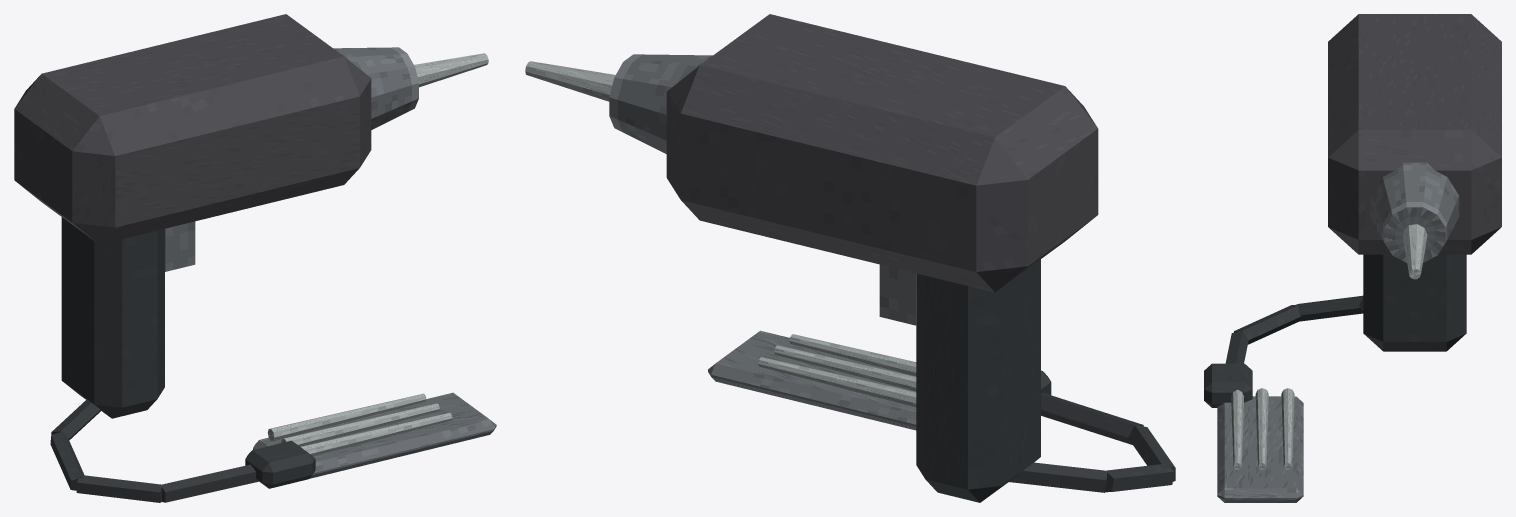
Rendered from corded_powerdrill.glb.
The picture shows the model from 3 angles, left to right: view 1: azimuth 30°, elevation 25°; view 2: azimuth 150°, elevation 25°; view 3: azimuth 270°, elevation 25°; orthographic projection. The views are drawn at different scales.
Parts seen in each view (by area): view 1: block_motor housing, block_angled grip, block_bit holder tray, block_spare drill bit (×3), block_keyless chuck, block_cord plug, block_power cord 3, block_power cord 2, block_trigger, block_tool bit, block_power cord 1, block_power cord 0; view 2: block_motor housing, block_angled grip, block_bit holder tray, block_spare drill bit (×3), block_keyless chuck, block_power cord 3, block_trigger, block_power cord 0, block_tool bit, block_power cord 1, block_power cord 2; view 3: block_motor housing, block_angled grip, block_bit holder tray, block_keyless chuck, block_spare drill bit (×3), block_cord plug, block_power cord 1, block_power cord 2, block_tool bit, block_power cord 3.
Part boxes in pixels (x1,y1,x2,y2): block_motor housing: (14,14,371,244); block_angled grip: (61,217,164,418); block_bit holder tray: (253,392,496,478); block_spare drill bit (×3): (267,393,452,456); block_keyless chuck: (333,47,418,129); block_cord plug: (245,440,315,488); block_power cord 3: (160,464,258,502); block_power cord 2: (76,475,162,502); block_trigger: (164,221,195,271); block_tool bit: (414,53,488,87); block_power cord 1: (50,431,84,490); block_power cord 0: (51,399,100,440); block_motor housing: (666,14,1098,292); block_angled grip: (916,259,1040,502); block_bit holder tray: (708,330,916,430); block_spare drill bit (×3): (758,334,916,407); block_keyless chuck: (609,54,712,153); block_power cord 3: (1041,393,1143,444); block_trigger: (879,264,916,325); block_power cord 0: (1009,462,1107,492); block_tool bit: (525,61,615,101); block_power cord 1: (1105,463,1174,492); block_power cord 2: (1128,424,1175,481); block_motor housing: (1328,14,1501,254); block_angled grip: (1363,254,1466,351); block_bit holder tray: (1217,396,1303,502); block_keyless chuck: (1370,162,1459,262); block_spare drill bit (×3): (1231,388,1294,470); block_cord plug: (1204,363,1252,407); block_power cord 1: (1294,295,1363,321); block_power cord 2: (1234,305,1301,344); block_tool bit: (1403,224,1427,279); block_power cord 3: (1225,330,1248,363).
Size of the model in its own units: 0.22 by 0.1536 by 0.1231.
Materials: 1 (1 with a texture image).
